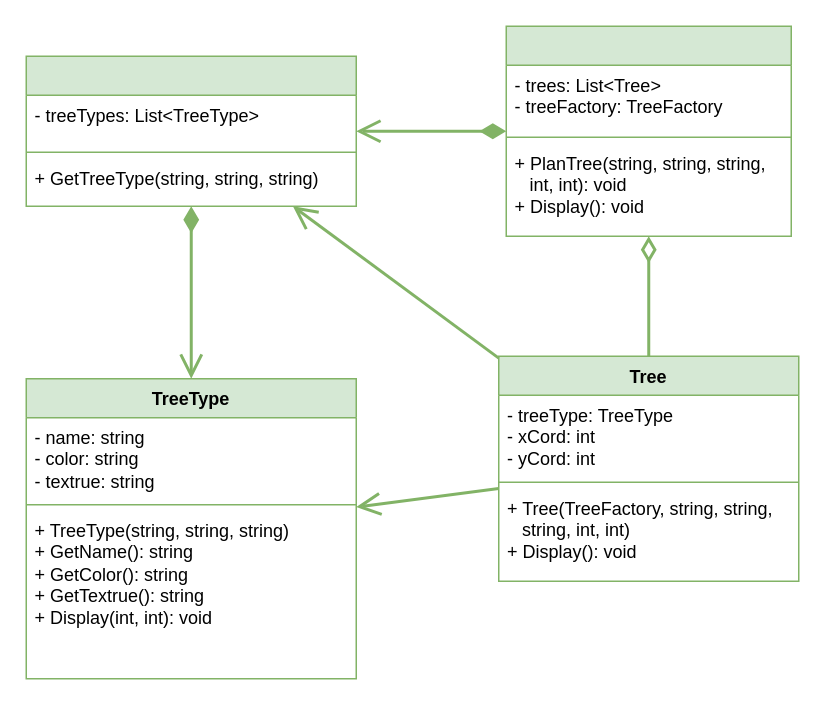
Image size: 825x710. Some labels were removed from this diagram. Each missing label, with the box of its shape:
Forest: (505, 25, 791, 236)
TreeFactory: (25, 55, 356, 206)
